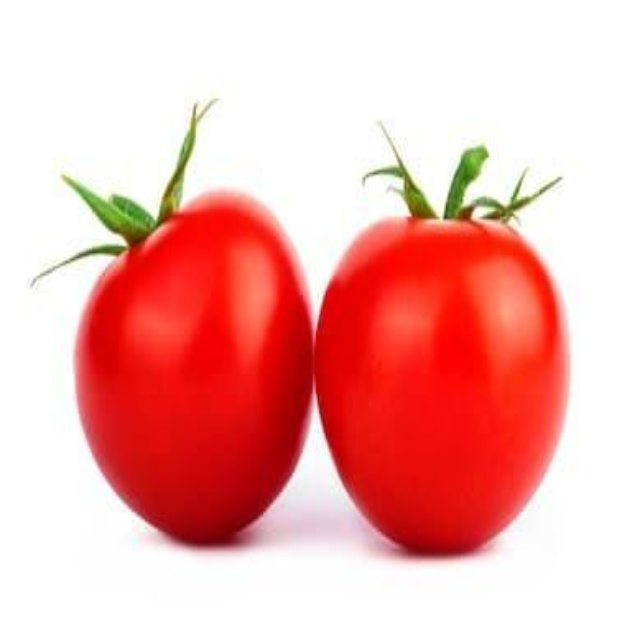tomato: (315, 142, 577, 557), (51, 159, 315, 546)
